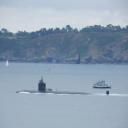submarine: (17, 80, 111, 97)
